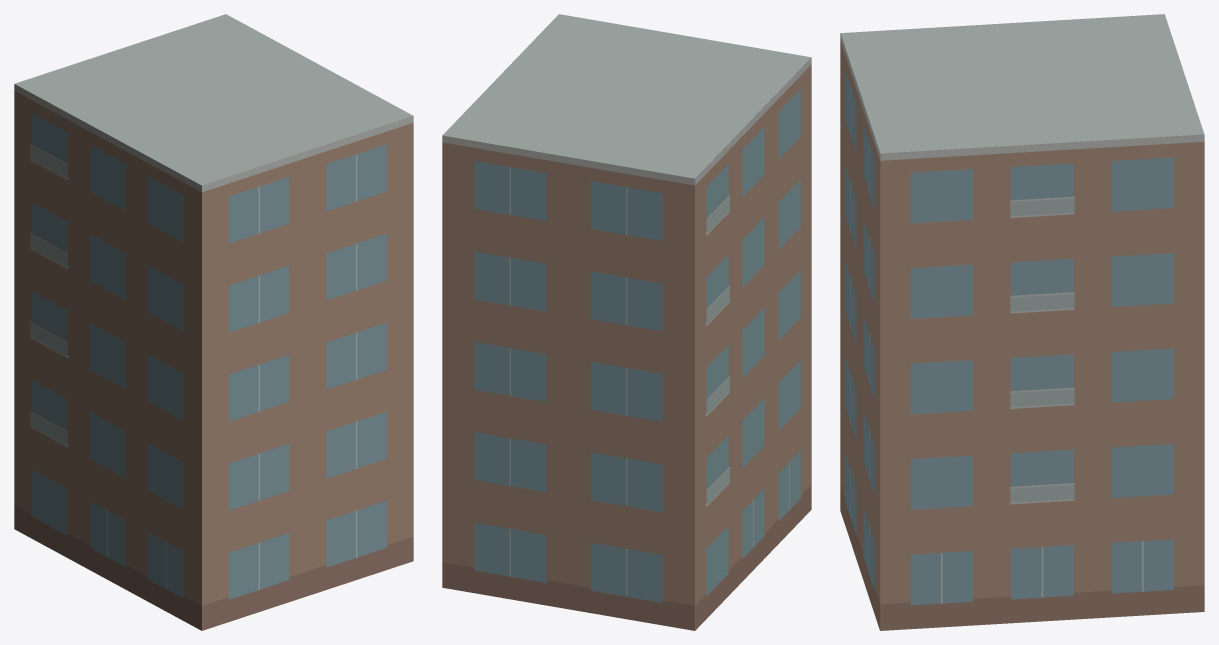
Rendered from survey-upis-32530983.glb.
The picture shows the model from 3 angles, left to right: view 1: azimuth 30°, elevation 25°; view 2: azimuth 150°, elevation 25°; view 3: azimuth 270°, elevation 25°; orthographic projection. The views are drawn at different scales.
Parts seen in each view (by area): view 1: survey-upis-32530983.tmp; view 2: survey-upis-32530983.tmp; view 3: survey-upis-32530983.tmp.
Boxes of the visible parts, left/top/right/bottom form: survey-upis-32530983.tmp: left=14, top=14, right=413, bottom=630; survey-upis-32530983.tmp: left=442, top=14, right=811, bottom=630; survey-upis-32530983.tmp: left=840, top=14, right=1204, bottom=630.
Bounding box in the file's own units: 10.09 × 16.08 × 11.13.
